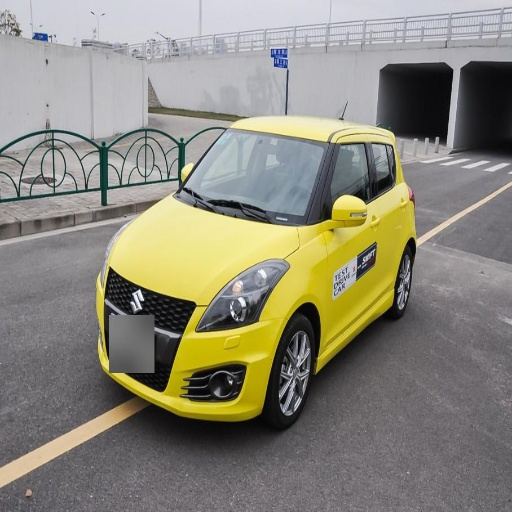front_bumper: (101, 272, 284, 416)
front_glass: (176, 129, 326, 226)
front_left_door: (324, 137, 377, 340)
